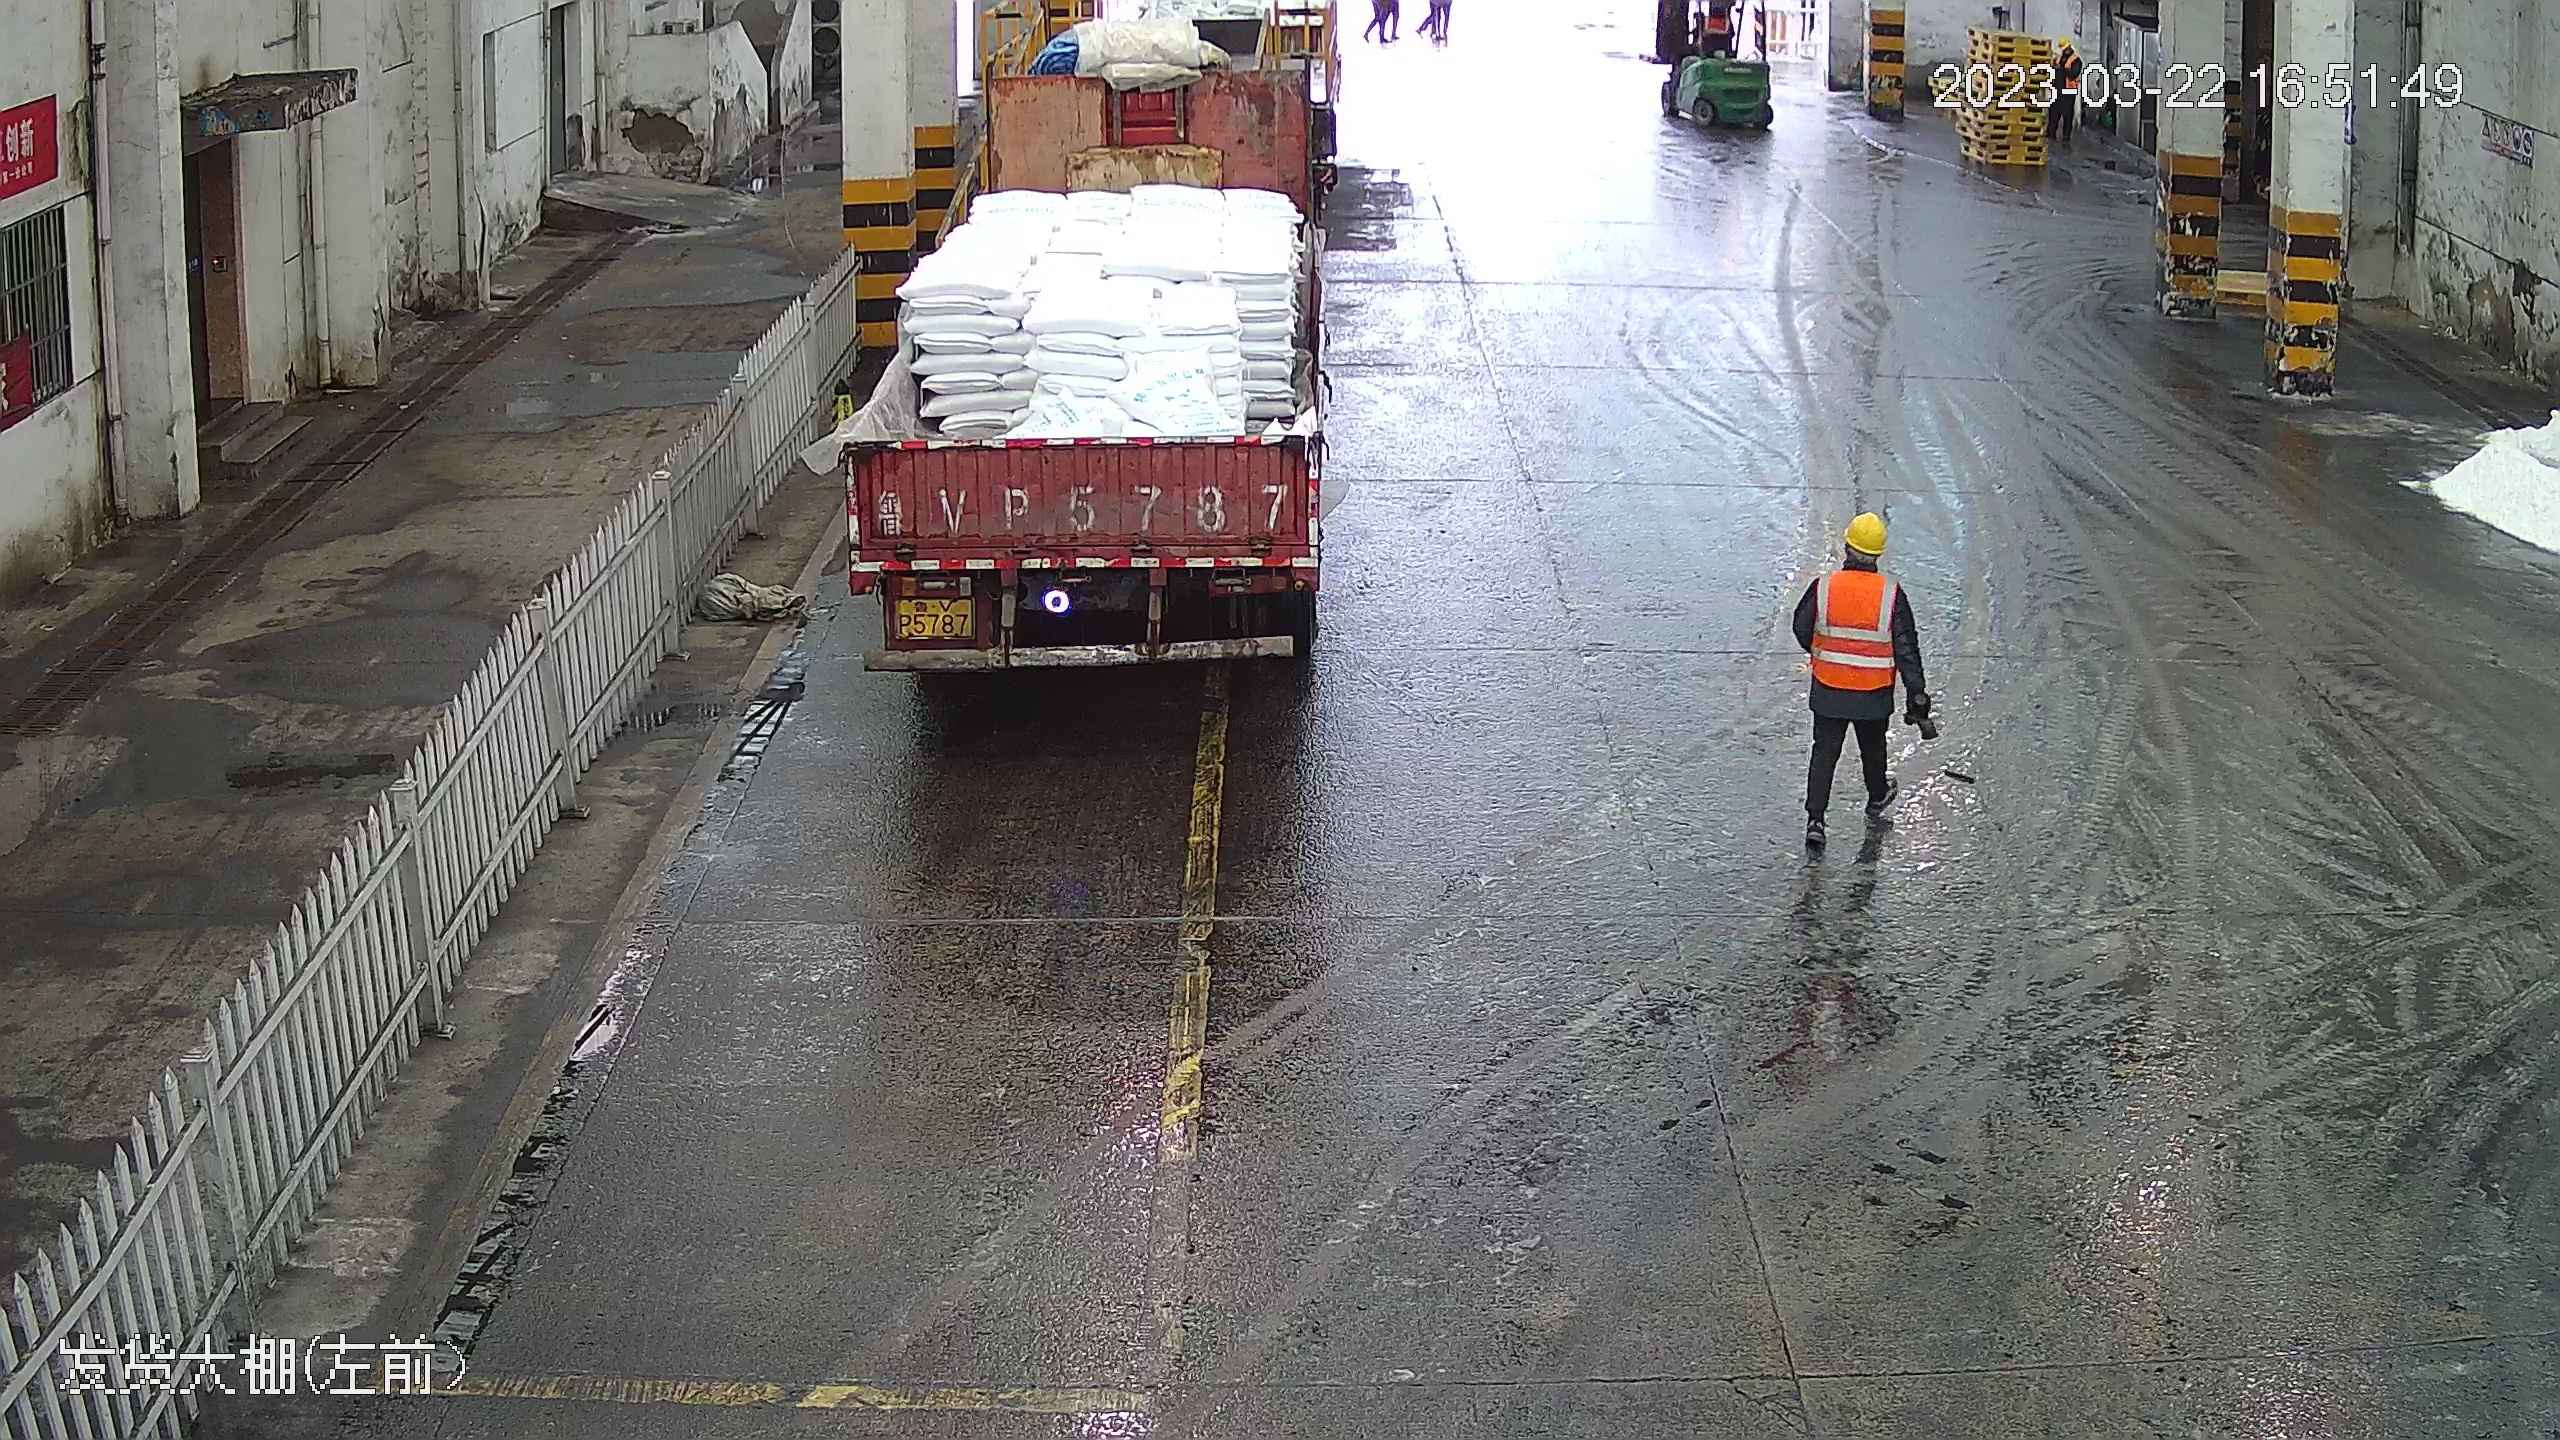head: (1797, 508, 1910, 618)
helmet: (1842, 509, 1891, 555)
people: (1787, 505, 1931, 858)
truck: (837, 11, 1339, 681)
